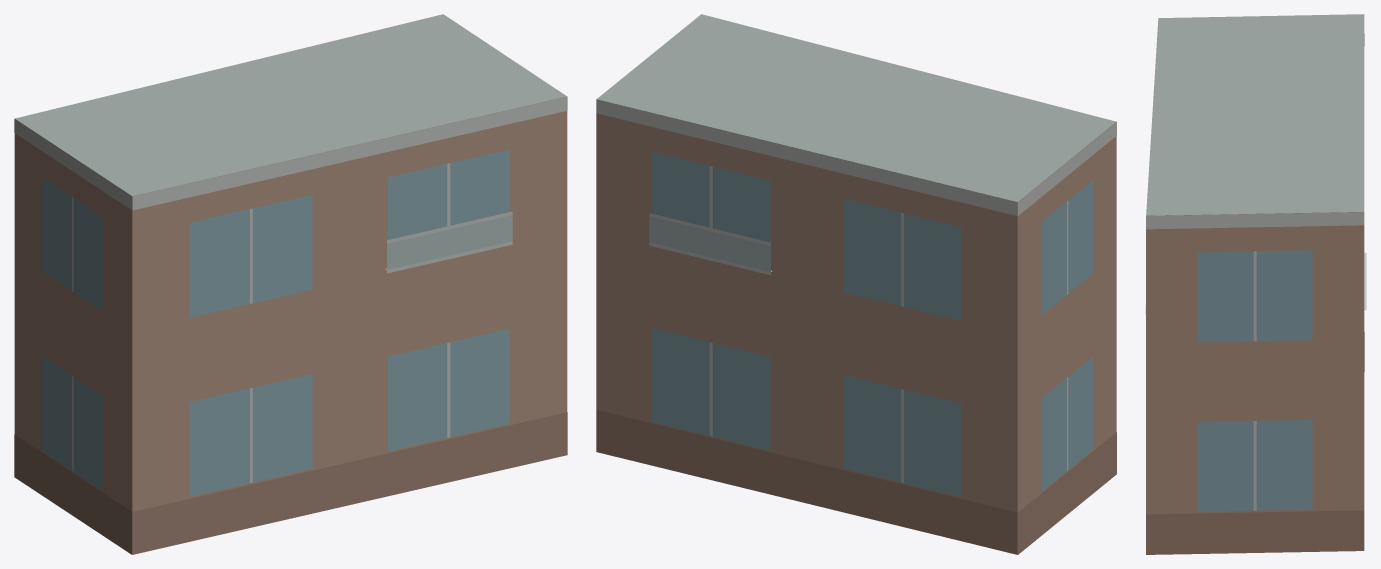
The model's file is survey-upis-32509854.glb.
3 renders of one model, left to right at view 1: azimuth 30°, elevation 25°; view 2: azimuth 150°, elevation 25°; view 3: azimuth 270°, elevation 25°, orthographic. The views are drawn at different scales.
Parts seen in each view (by area): view 1: survey-upis-32509854.tmp; view 2: survey-upis-32509854.tmp; view 3: survey-upis-32509854.tmp.
Part boxes in pixels (box(x1,y1,x2,y2)): survey-upis-32509854.tmp: box(14, 14, 567, 554); survey-upis-32509854.tmp: box(596, 14, 1116, 554); survey-upis-32509854.tmp: box(1145, 14, 1366, 554).
Bounding box in the file's own units: 7.8 × 6.1 × 3.61.
